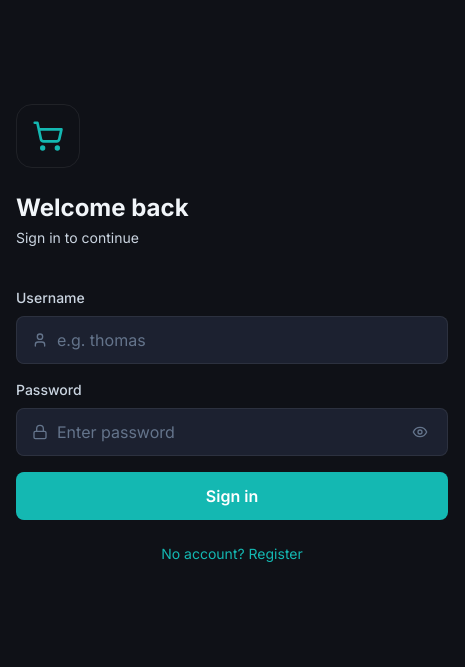
it: LoginScreen › shows password mismatch error in register mode
The image size is (465, 667).
Click the button "No account? Register".
click(232, 554)  # box [16,544,448,564]
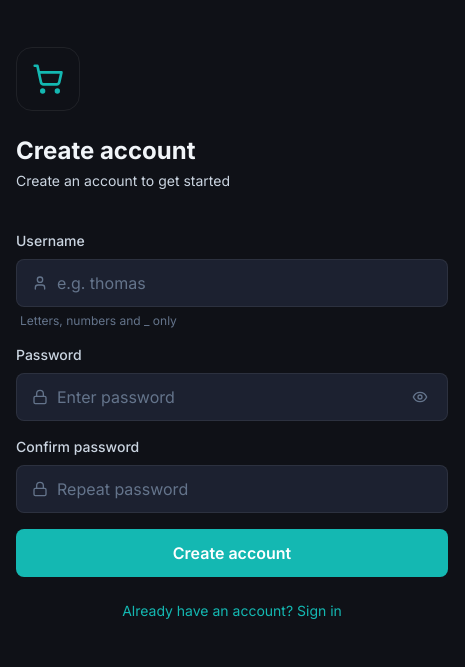
Type "newuser" into the field labelled "Username".
click(232, 283); type("newuser")  # box [16,259,448,307]
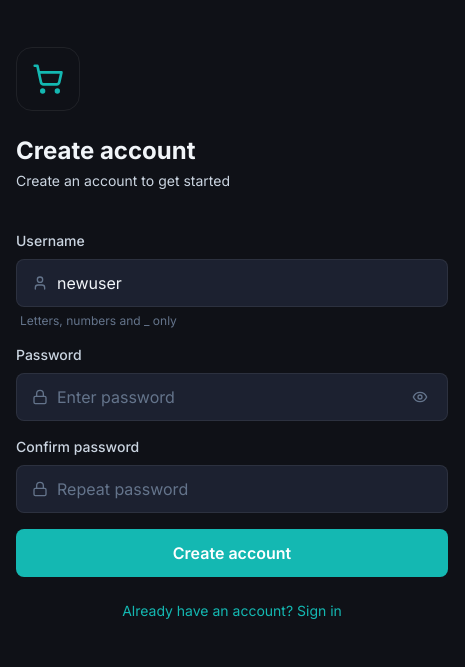
Type "password123" into the password field labelled "Password".
click(232, 397); type("password123")  # box [16,373,448,421]
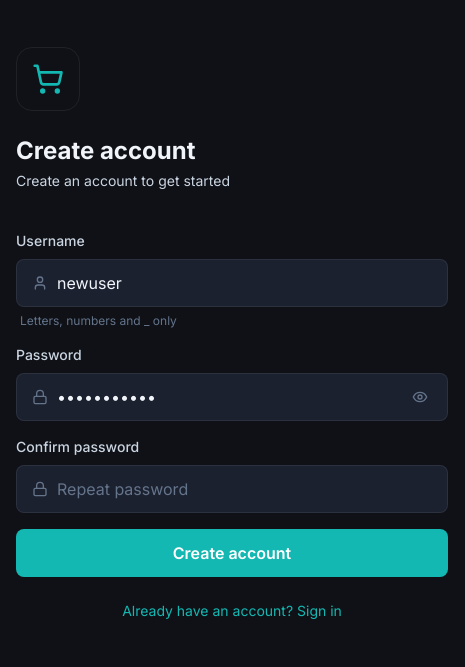
Type "different" into the password field labelled "Confirm password".
click(232, 489); type("different")  # box [16,465,448,513]
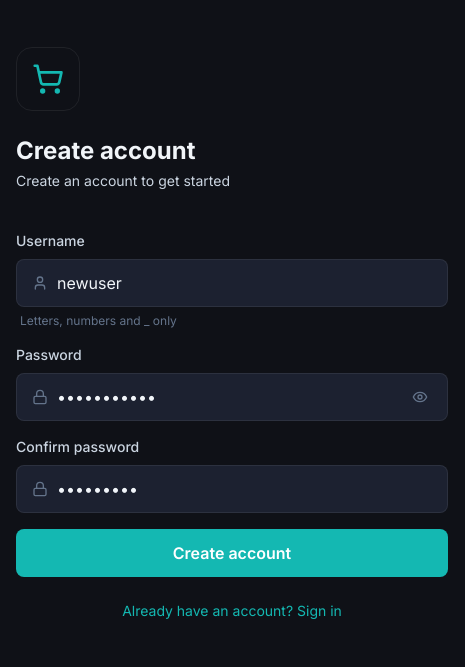
Click the button "Create account".
click(232, 553)  # box [16,529,448,577]
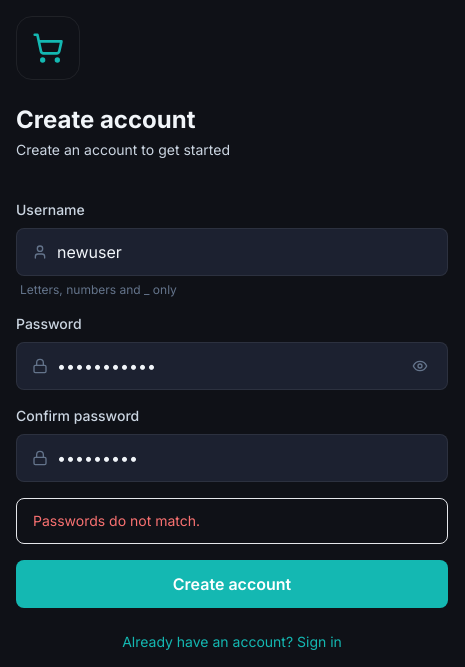
Expected: the text "Passwords do not match." is shown, [16,498,448,544]
